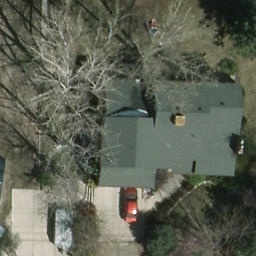car: (122, 188, 139, 223)
